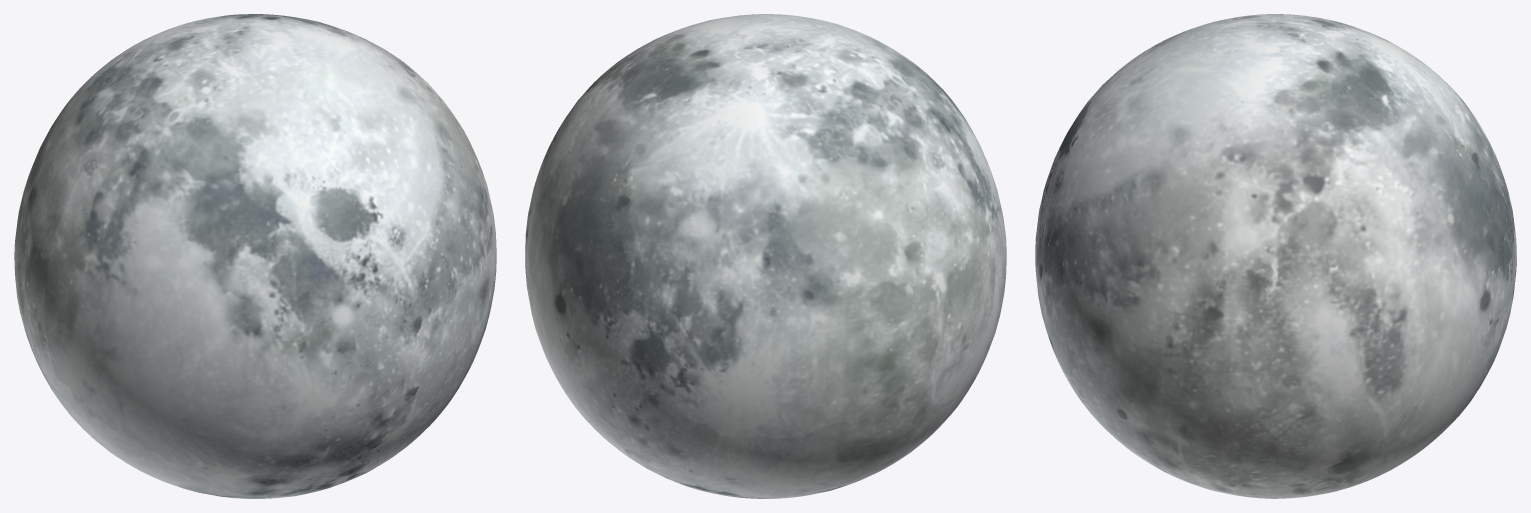
Rendered from moon_textured.glb.
3 views of the same model, side by side, from view 1: azimuth 30°, elevation 25°; view 2: azimuth 150°, elevation 25°; view 3: azimuth 270°, elevation 25° (orthographic).
Visible parts, largest first — view 1: geometry_0; view 2: geometry_0; view 3: geometry_0.
Boxes of the visible parts, x1,y1,x2,y2 form: geometry_0: (14,14,496,498); geometry_0: (525,14,1006,498); geometry_0: (1035,14,1516,498).
Size of the model in its own units: 3474800 by 3477538 by 3466274.
Materials: 1 (1 with a texture image).
